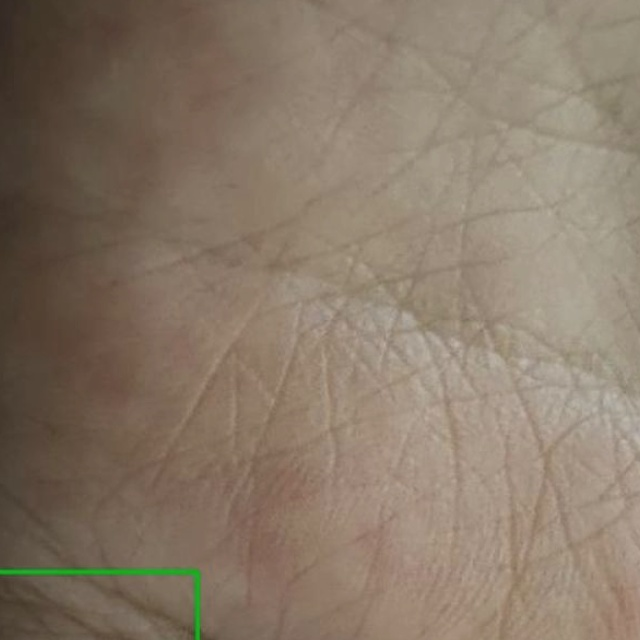Contact Dermatitis: (0, 572, 197, 639)
